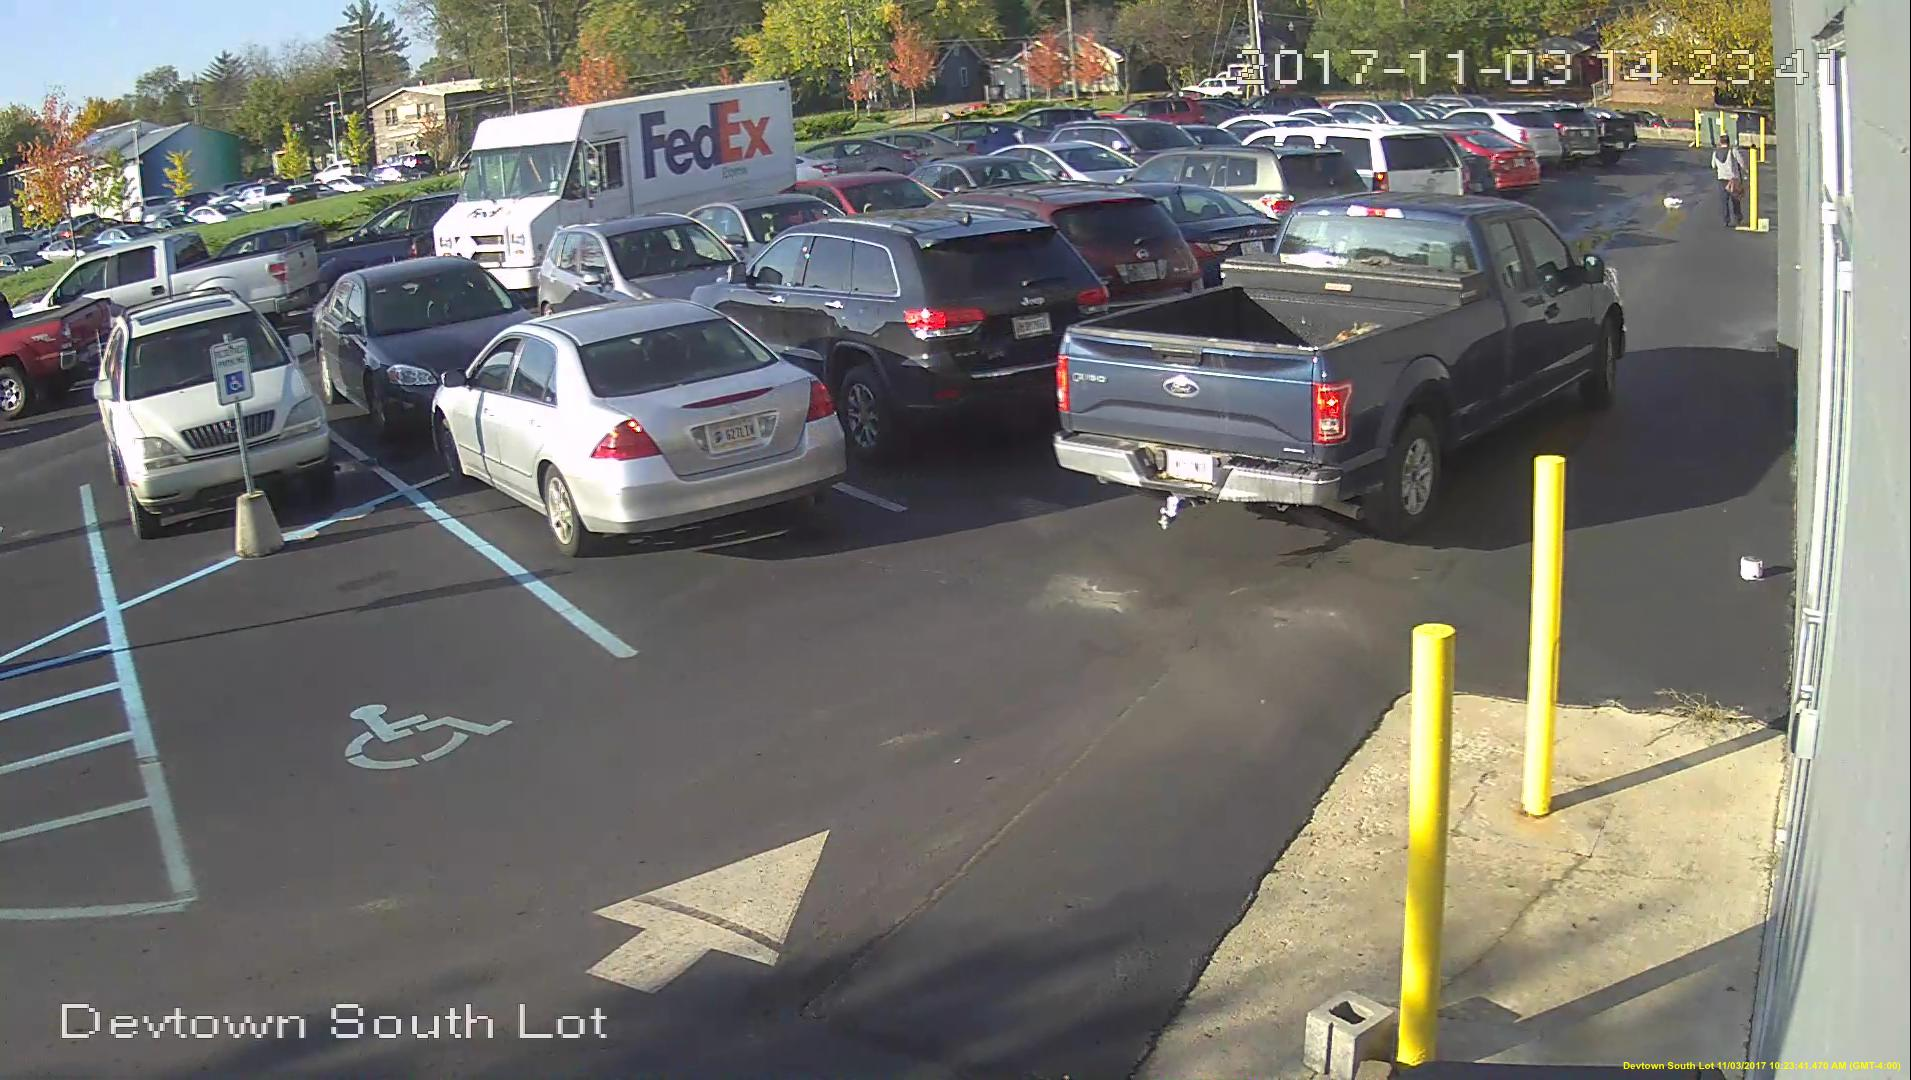fedex_truck: (427, 77, 803, 297)
